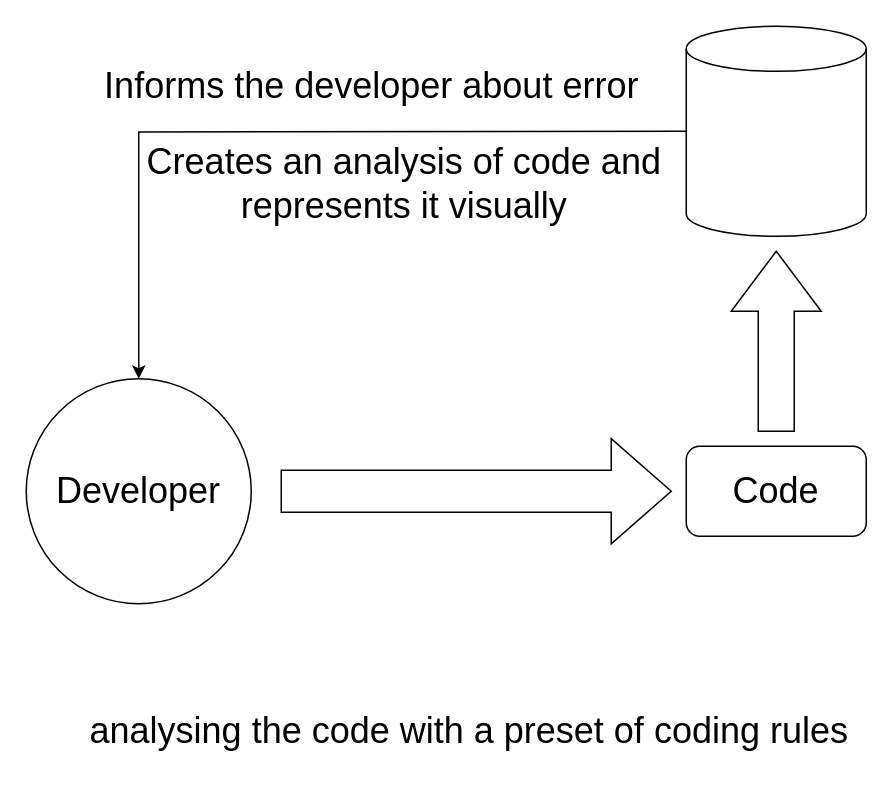
Image size: 893x788. Some labels were removed from this diagram. Here are the shapes that lost their labels. From the top down, the centre of each, then its label:
pixel 775 130: Static Testing Tool
pixel 475 490: Writes code
